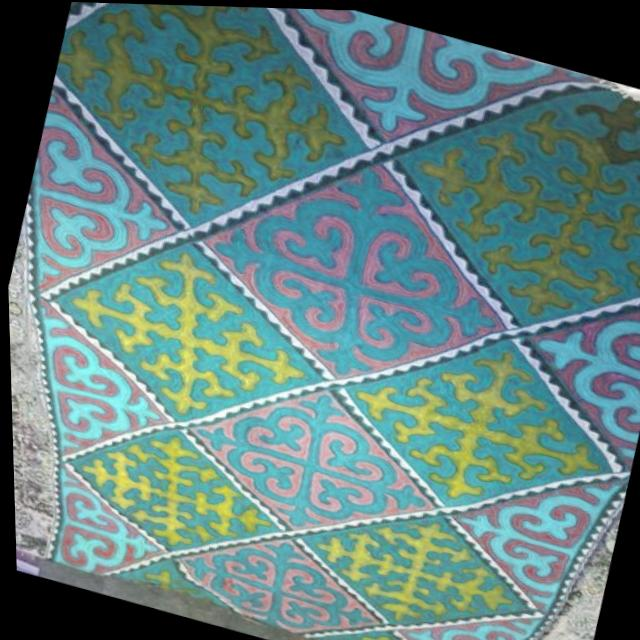Unity: (211, 161, 505, 375), (284, 8, 610, 134), (191, 391, 433, 529), (37, 85, 169, 286), (452, 480, 624, 611), (177, 533, 381, 634), (39, 297, 163, 450), (534, 308, 640, 465), (54, 462, 162, 577), (401, 617, 542, 640)
